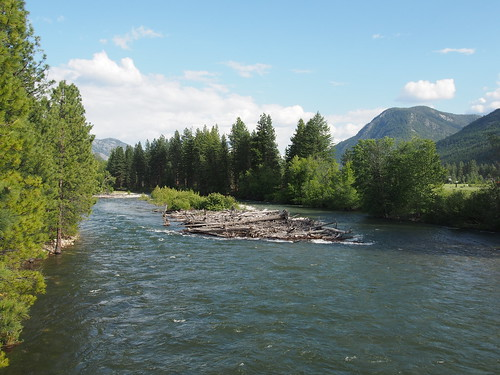mountain: (352, 94, 476, 132)
river: (25, 203, 473, 375)
sky: (103, 1, 500, 117)
vegetation: (116, 132, 488, 220), (1, 20, 96, 340)
